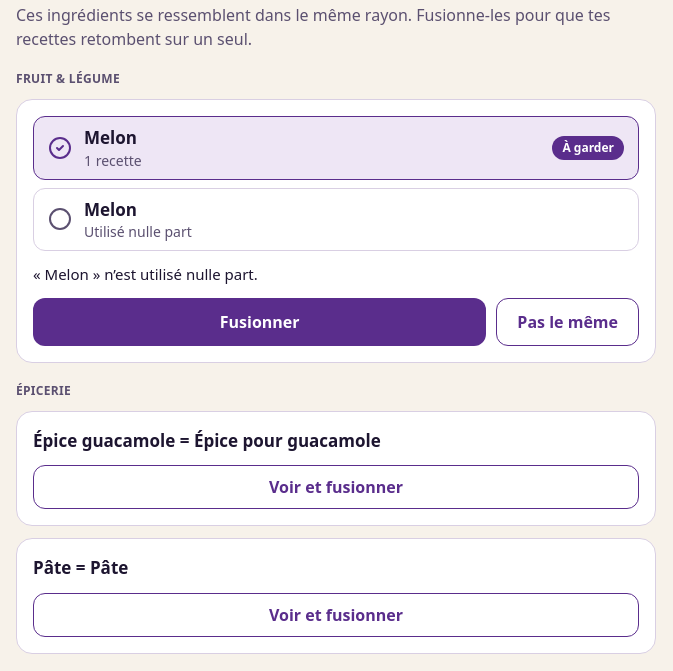
Test: DuplicatesView › ouvre une autre carte en repliant la précédente
The width and height of the screenshot is (673, 671).
(page scrolled)
Expected: the number of list items with test id "duplicate-card" is 3, [16,99,656,362]; [16,410,656,526]; [16,538,656,654]
Click the button "Voir et fusionner" below "Pâte = Pâte".
click(336, 614)  # box [33,592,639,636]
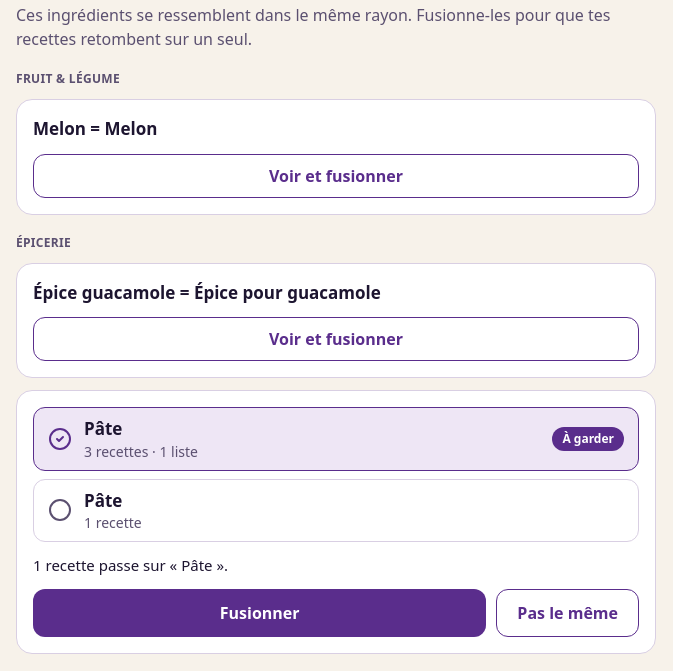
Expected: the text with test id "duplicate-effect" reads "1 recette passe sur « Pâte ».", [33,555,228,575]
